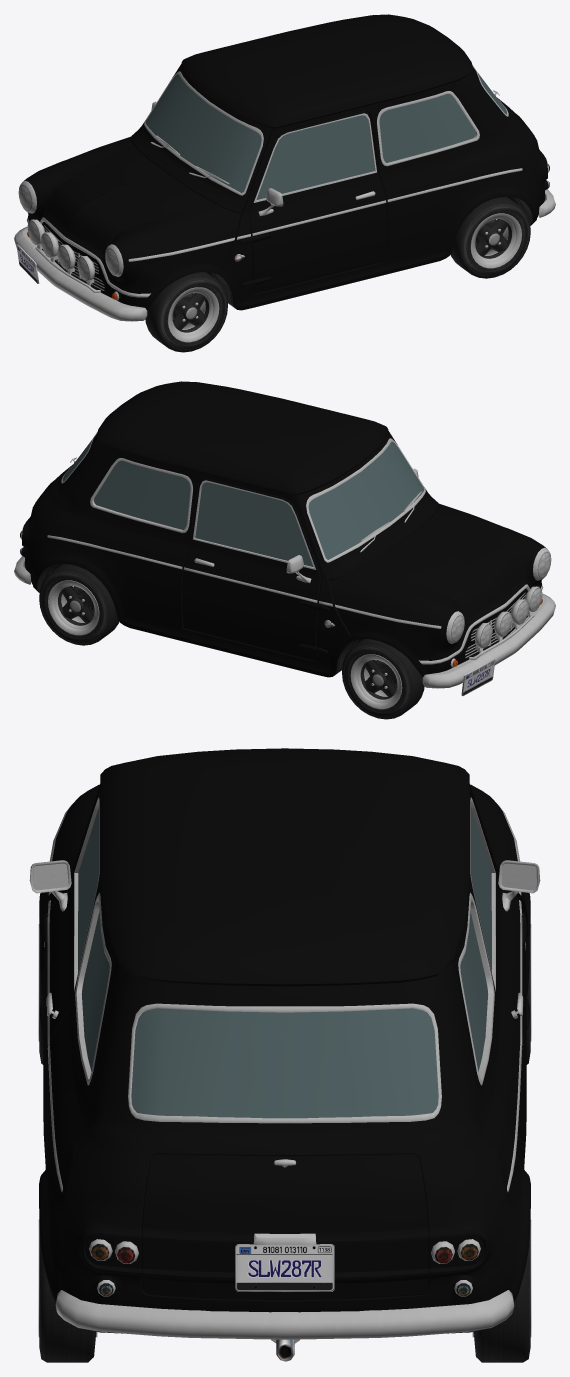
File: lasley67.fbx
The picture shows the model from 3 angles, top to bottom: view 1: azimuth 30°, elevation 25°; view 2: azimuth 150°, elevation 25°; view 3: azimuth 270°, elevation 25°; orthographic projection. The views are drawn at different scales.
Visible parts, largest first — view 1: Body, Roof, Door_FL, Hood, Window_front, Door_Glass_FL, Wheel_FL, Wheel_RL, Windows_Body, Body_Trim, Bumper_Front, Door_inner_FL (+4 smaller); view 2: Body, Roof, Door_FR, Hood, Window_front, Door_Glass_FR, Wheel_FR, Wheel_RR, Windows_Body, Body_Trim, Bumper_Front, Door_inner_FR (+4 smaller); view 3: Roof, Body, Trunk_door, Window_rear, Bumper_Rear, Body_Trim, Numberplate_rear, Windows_Body, Door_FR, Door_FL, Wheel_RR, Wheel_RL (+7 smaller).
Boxes of the visible parts, x1,y1,x2,y2 form: Body: [23, 63, 548, 310]; Roof: [181, 14, 472, 128]; Door_FL: [249, 111, 387, 293]; Hood: [43, 143, 212, 259]; Window_front: [145, 74, 261, 192]; Door_Glass_FL: [256, 115, 374, 199]; Wheel_FL: [145, 272, 227, 352]; Wheel_RL: [450, 196, 530, 278]; Windows_Body: [379, 94, 475, 162]; Body_Trim: [26, 65, 522, 297]; Bumper_Front: [14, 226, 147, 321]; Door_inner_FL: [252, 113, 386, 235]; Body: [21, 430, 546, 677]; Roof: [97, 381, 388, 495]; Door_FR: [182, 478, 320, 660]; Hood: [357, 510, 526, 626]; Window_front: [308, 441, 424, 559]; Door_Glass_FR: [195, 482, 313, 566]; Wheel_FR: [342, 639, 424, 719]; Wheel_RR: [39, 563, 119, 645]; Windows_Body: [94, 461, 190, 529]; Body_Trim: [47, 432, 543, 664]; Bumper_Front: [422, 593, 555, 688]; Door_inner_FR: [183, 480, 317, 602]; Roof: [100, 748, 469, 986]; Body: [39, 784, 530, 1333]; Trunk_door: [141, 1154, 428, 1299]; Window_rear: [131, 1008, 438, 1118]; Bumper_Rear: [55, 1290, 514, 1339]; Body_Trim: [47, 804, 522, 1191]; Numberplate_rear: [235, 1244, 334, 1291]; Windows_Body: [81, 911, 488, 1071]; Door_FR: [469, 794, 530, 1121]; Door_FL: [39, 794, 100, 1121]; Wheel_RR: [472, 1220, 531, 1362]; Wheel_RL: [38, 1220, 97, 1362].
Size of the model in its own units: 123 by 58.02 by 51.96.
